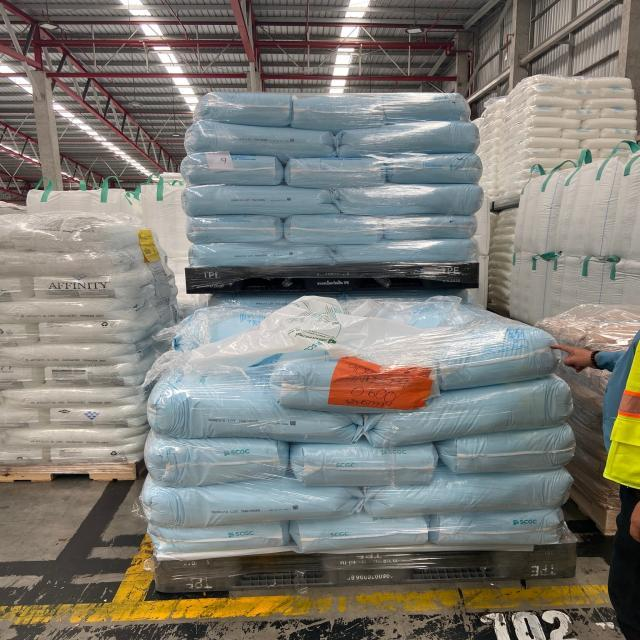gunny_bag: (364, 377, 573, 447), (146, 382, 364, 445), (364, 470, 571, 519), (140, 485, 363, 528), (144, 440, 290, 483), (440, 427, 576, 472), (298, 450, 431, 483), (148, 525, 291, 552), (440, 516, 561, 544), (298, 522, 428, 546)
